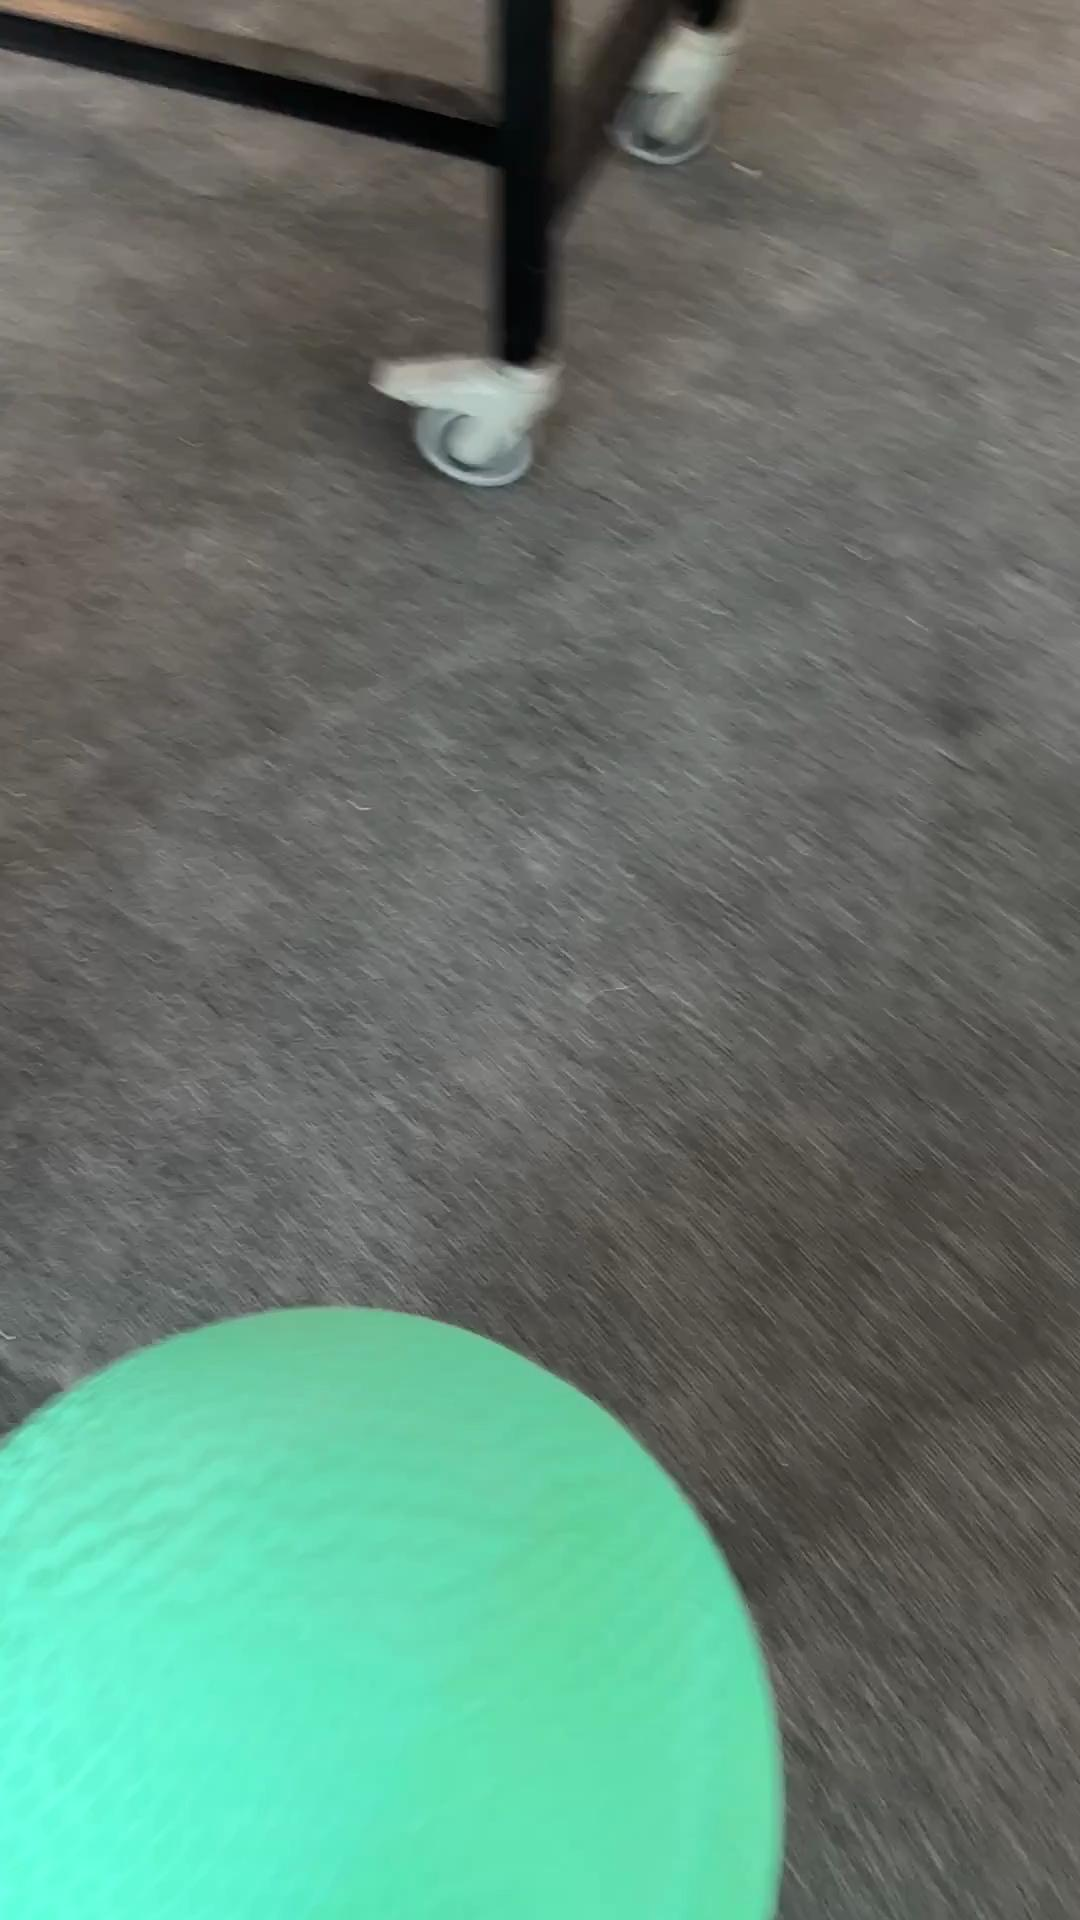ALGAE: (1, 1302, 787, 1916)
